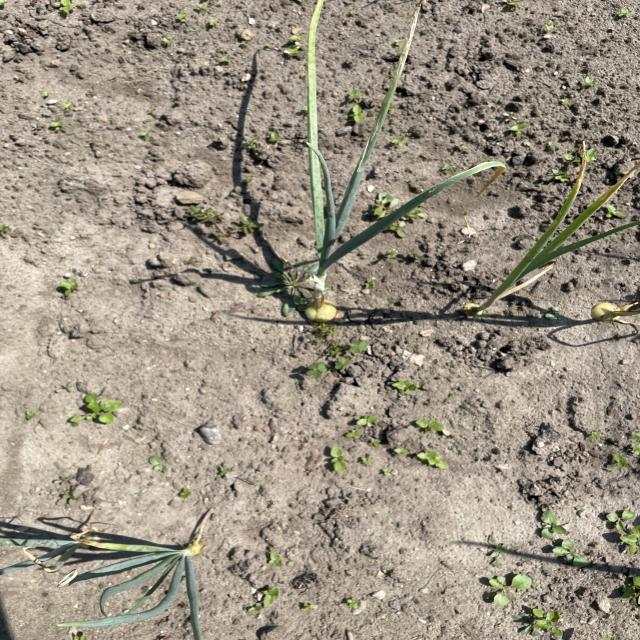Onion: (295, 5, 465, 322), (449, 165, 640, 322), (80, 525, 228, 640), (4, 522, 98, 585)
weed: (293, 324, 376, 382), (165, 202, 270, 243), (528, 509, 592, 570), (262, 256, 316, 314), (410, 418, 459, 474), (512, 596, 569, 640), (482, 570, 534, 611), (609, 504, 640, 565), (74, 393, 124, 428), (52, 266, 90, 309), (317, 443, 362, 474)
